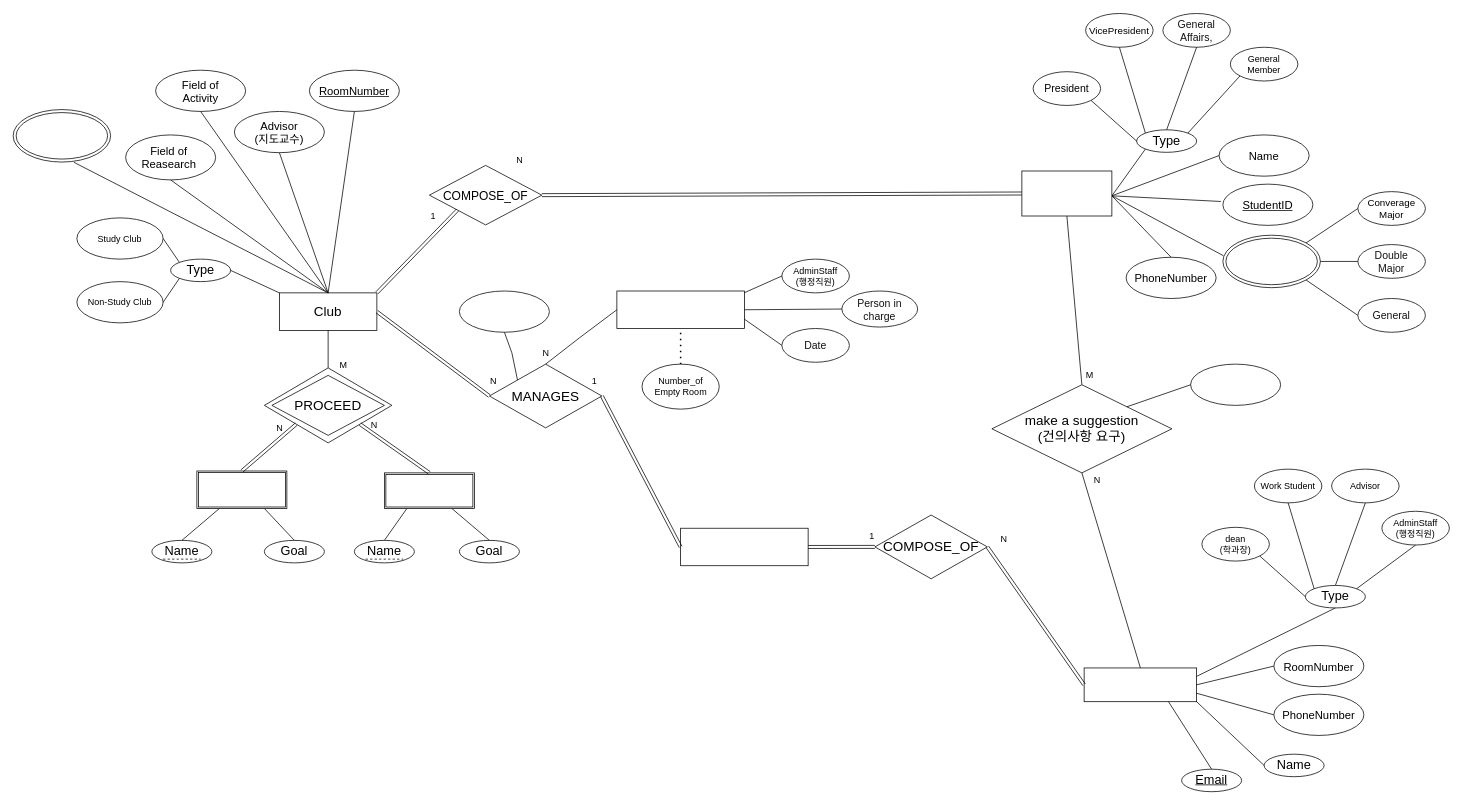
Some shapes in this 1463 by 805 pixel diagram are drawn without their labels. Each missing label, with the centre of its shape:
"Content (내용)" belongs at (1235,384).
"Department of computer science" belongs at (744,546).
"EMPLOYEE" belongs at (1140,684).
"MainAcitivites" belongs at (61,135).
"Major" belongs at (1271,261).
"Member" belongs at (1066,193).
"Performace (실적)" belongs at (504,311).
"Project" belongs at (241,489).
"Rentaled Room" belongs at (680,309).
"Study" belongs at (429,490).
